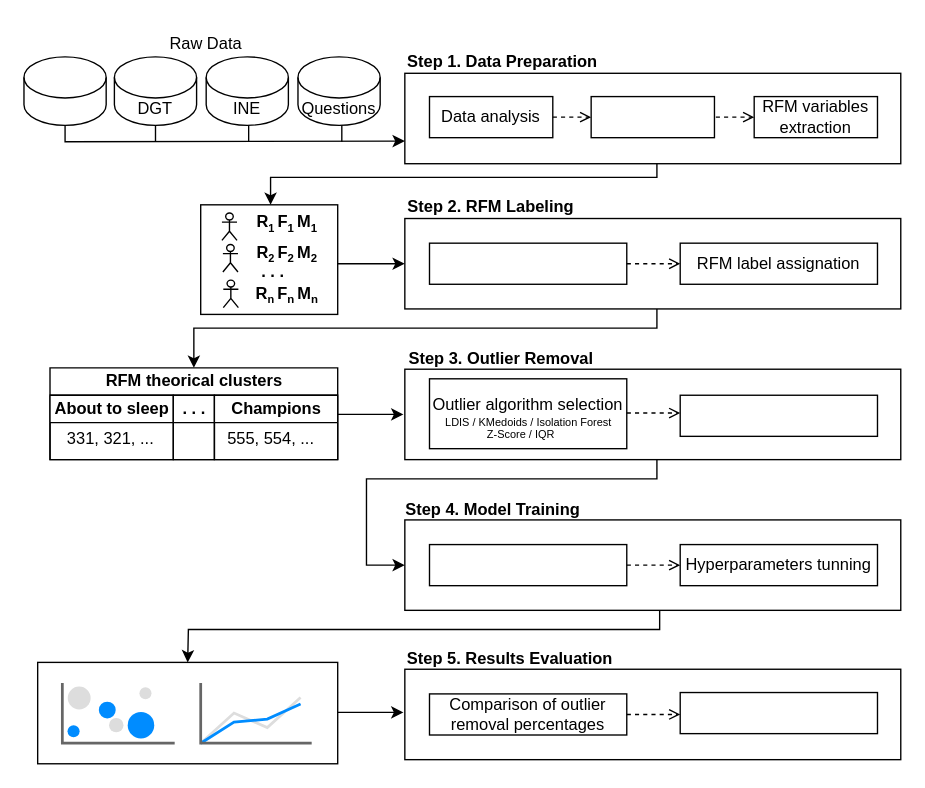
This 925x788 diagram has some shape labels left out. Here are the shapes that lost their labels. From the top down, the centre of each, then its label:
At point (64, 90): "LPR".
At point (652, 116): "Data preprocessing".
At point (527, 263): "Division of variables into quintiles Q 1 - Q 5".
At point (778, 415): "Representative data collection".
At point (527, 564): "Design of neural network arquitecture".
At point (778, 712): "Results explanation".
